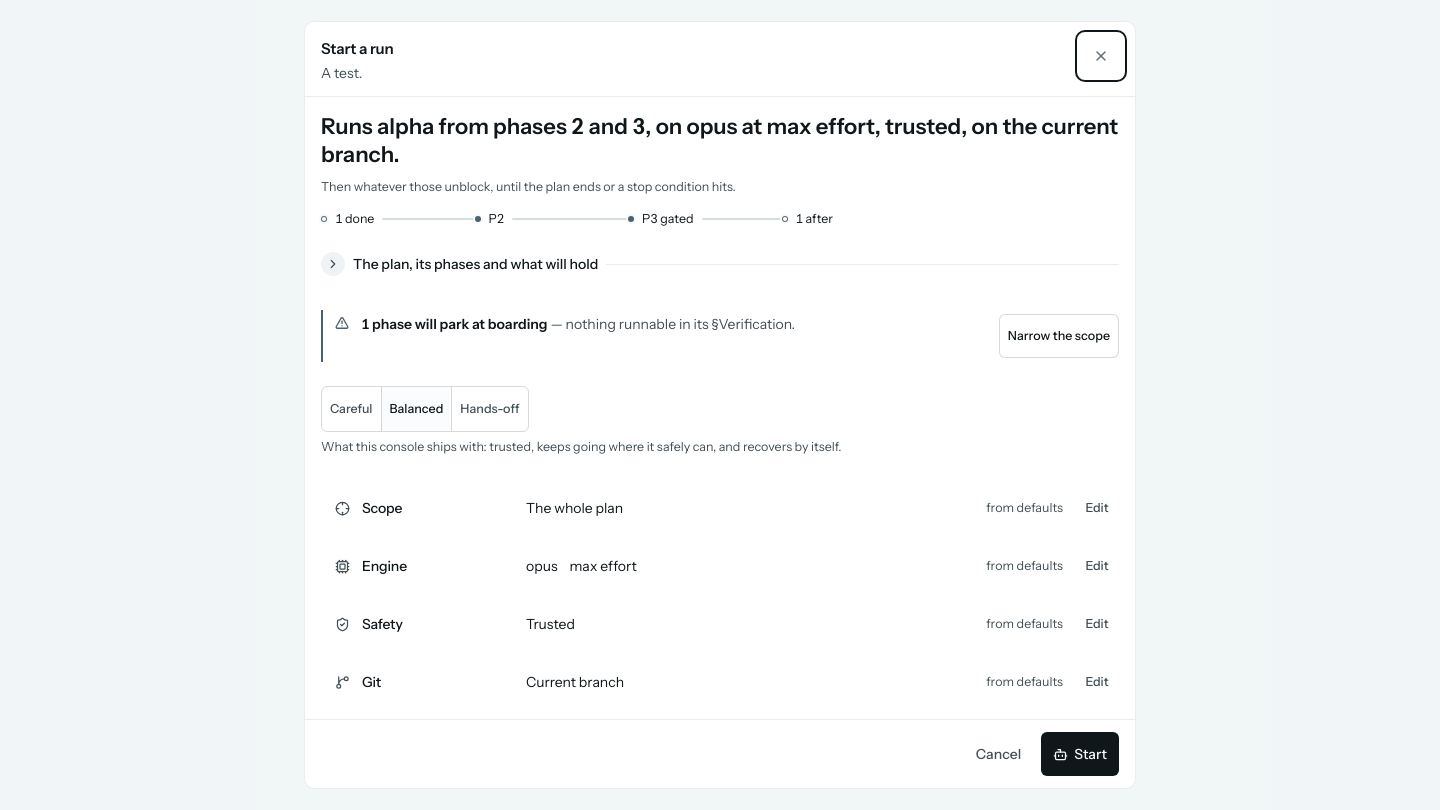
Test: the review, collapsed to what differs › counts every value that differs, lists each with its source, and links back to its tile
Expected: the button "Start" is shown, [1041,732,1119,776]
Click the button "Edit" in the row of "Engine": (1097,566) [1075,544,1119,588]
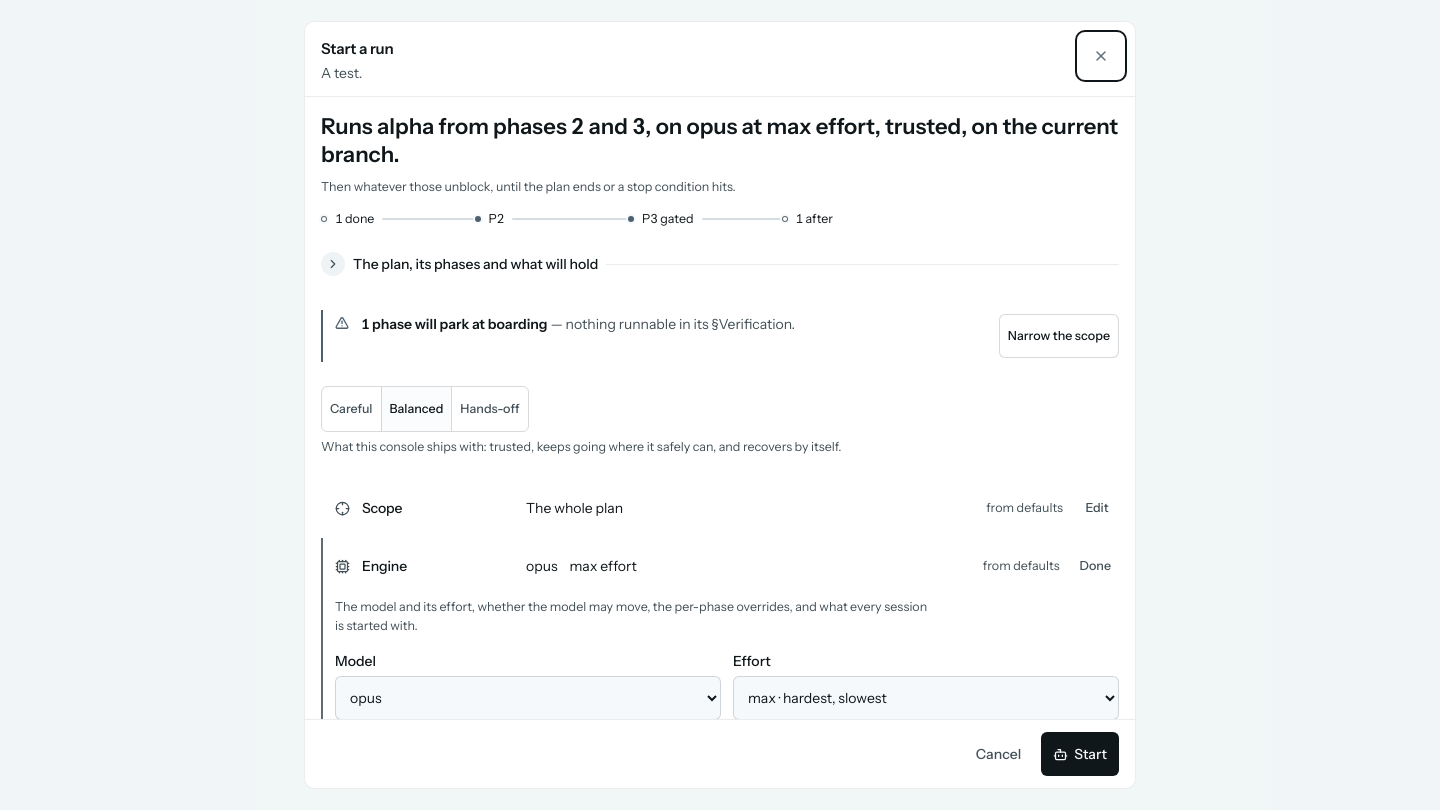
Select "sonnet" in the dropdown labelled "Model": (528,698) [335,676,721,720]
(page scrolled)
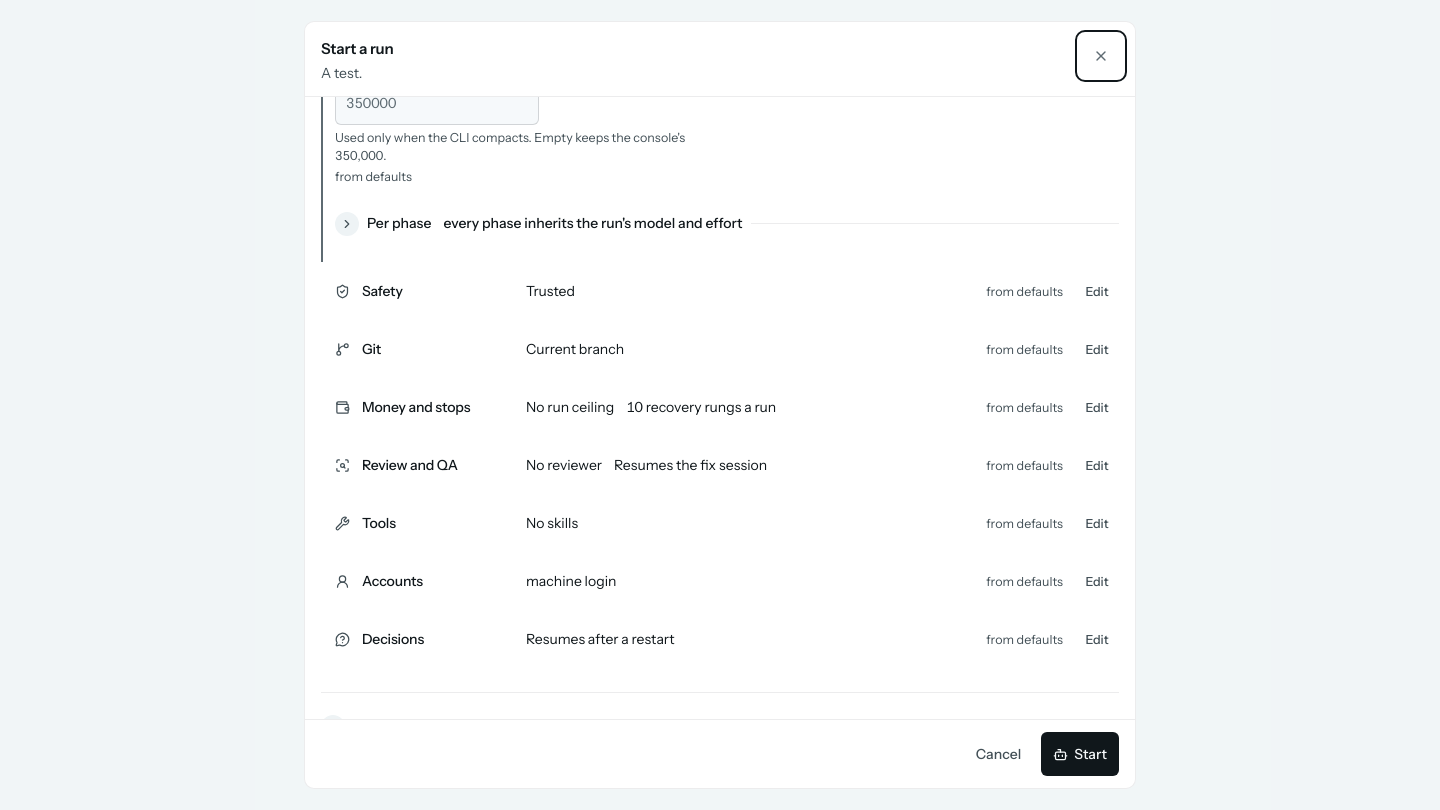
Click the button "Edit" in the row of "10 recovery rungs a run": (1097,408) [1075,386,1119,430]
(page scrolled)
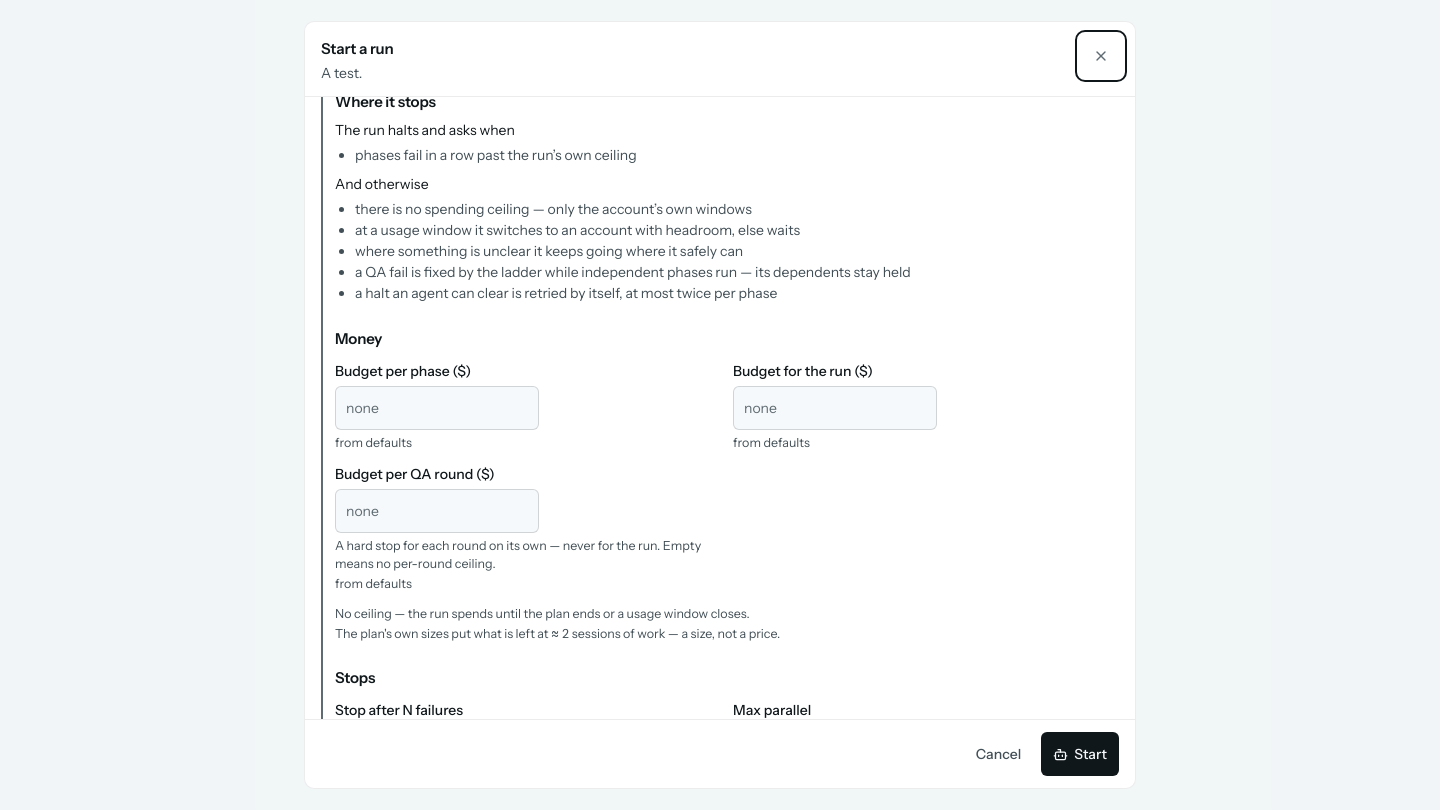
In the number field labelled "Budget for the run ($)": (835,408) [733,386,937,430], type "40"
(page scrolled)
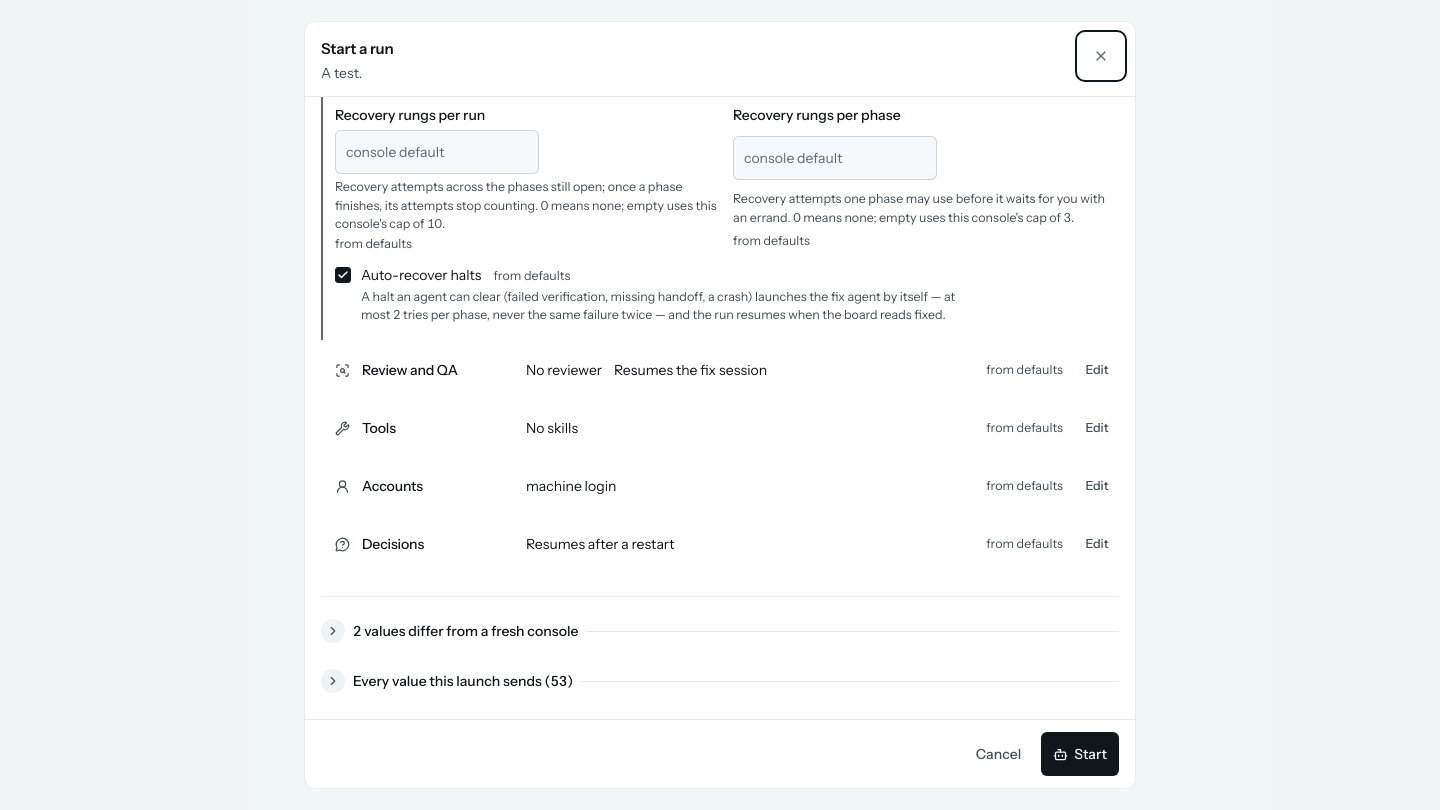
Click the button "2 values differ from a fresh console": (466,631) [321,609,1119,653]
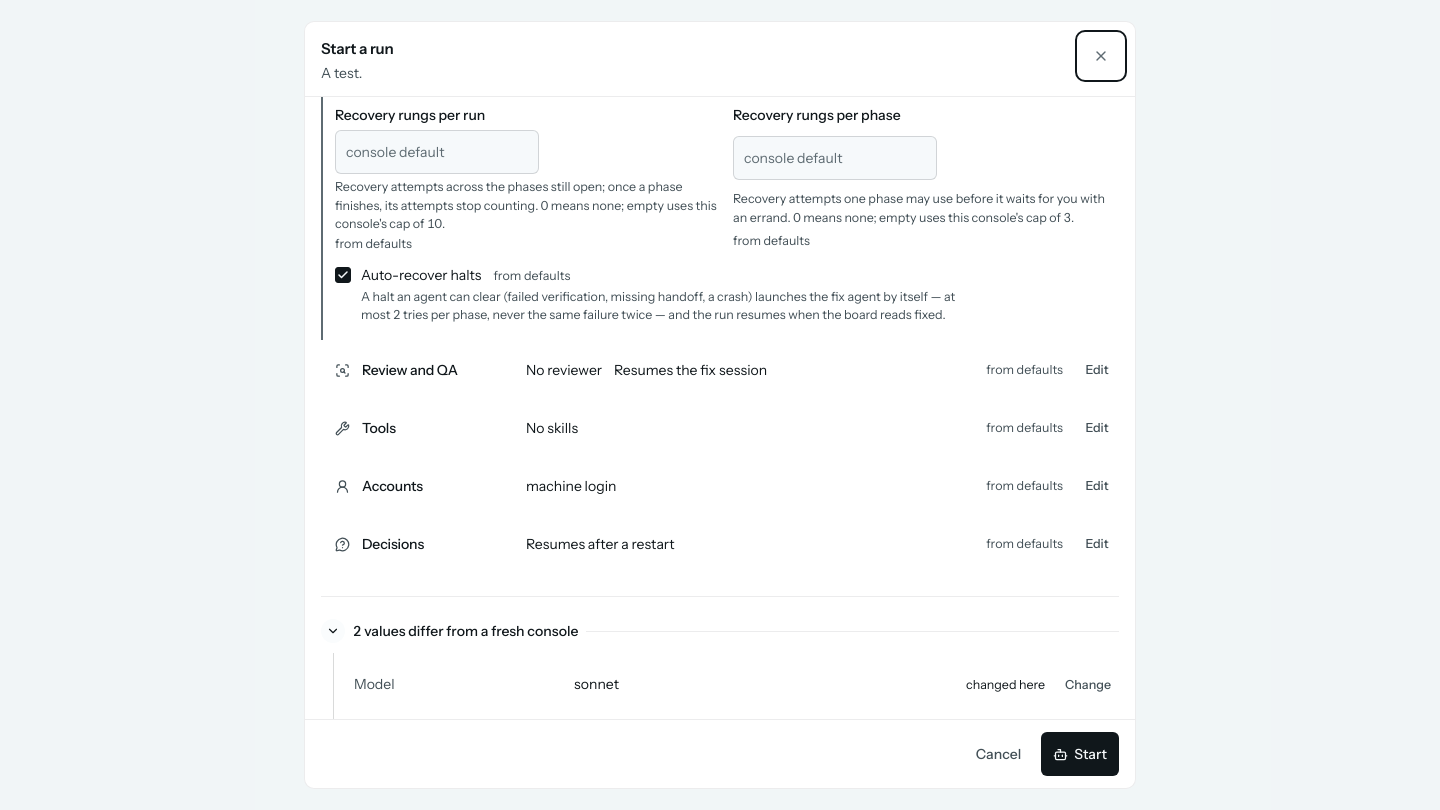
Click the button with aria-label "Change Model": (1088,685) [1057,663,1119,707]
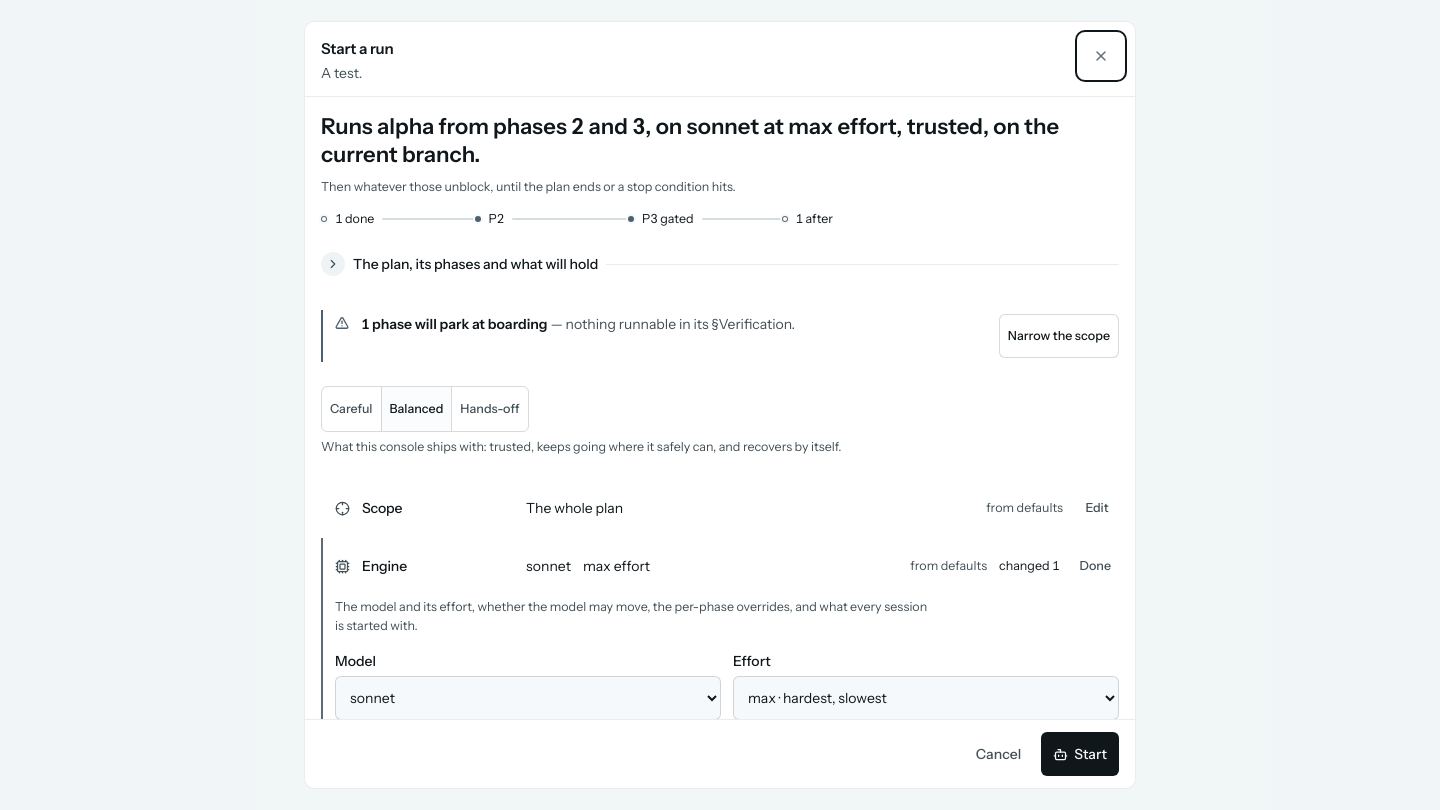
Expected: the heading "Money and stops" is not shown
Now the dropdown labelled "Model" is shown, box [335,676,721,719]
